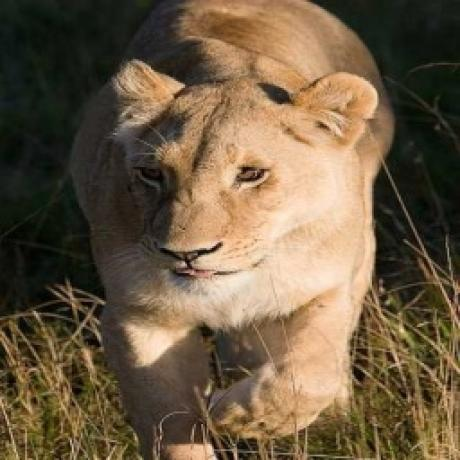Lion: (65, 0, 397, 460)
